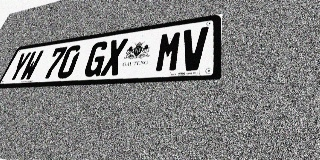0: (55, 44, 83, 79)
7: (41, 46, 68, 80)
G: (82, 40, 110, 77)
M: (154, 30, 183, 73)
V: (179, 26, 209, 71)
W: (18, 50, 44, 81)
X: (100, 38, 128, 76)
Y: (6, 52, 32, 82)
